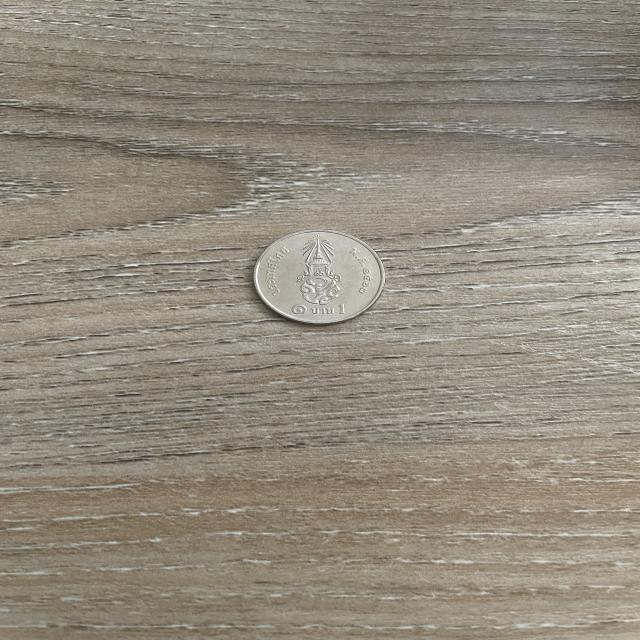1 Bath: (251, 224, 397, 335)
